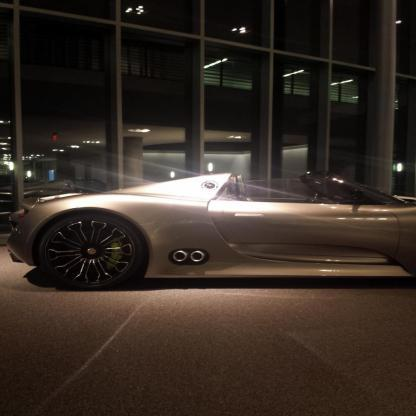car: (8, 170, 416, 294)
